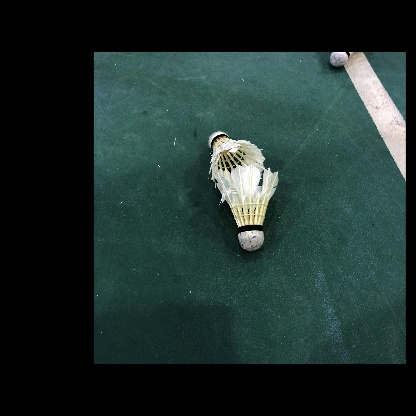ball_single: (216, 165, 279, 251), (208, 131, 265, 182), (330, 52, 356, 68)
